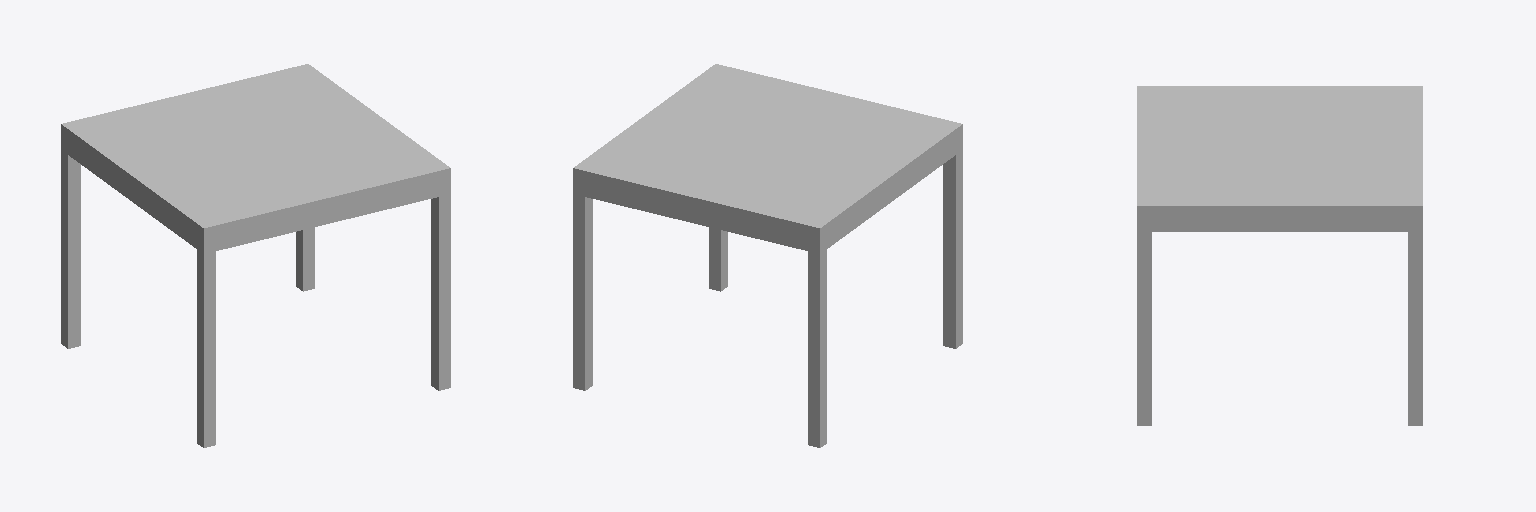
File: table.obj
The picture shows the model from 3 angles: view 1: azimuth 30°, elevation 25°; view 2: azimuth 150°, elevation 25°; view 3: azimuth 270°, elevation 25°; orthographic projection.
Visible parts, largest first — view 1: table; view 2: table; view 3: table.
Part boxes in pixels (bbox=[...]): table: bbox=[61, 64, 450, 447]; table: bbox=[573, 64, 962, 447]; table: bbox=[1137, 86, 1422, 425].
Size of the model in its own units: 20 by 17 by 20.